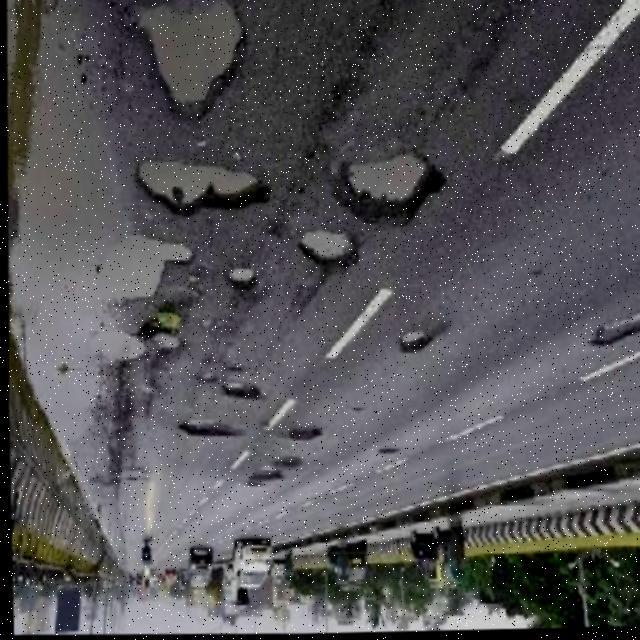pothole: (118, 0, 248, 131), (326, 143, 450, 234), (130, 155, 272, 223), (292, 222, 360, 274), (590, 302, 640, 352), (174, 414, 242, 441), (394, 327, 432, 361), (216, 378, 262, 404), (222, 266, 256, 292), (284, 424, 322, 444)
